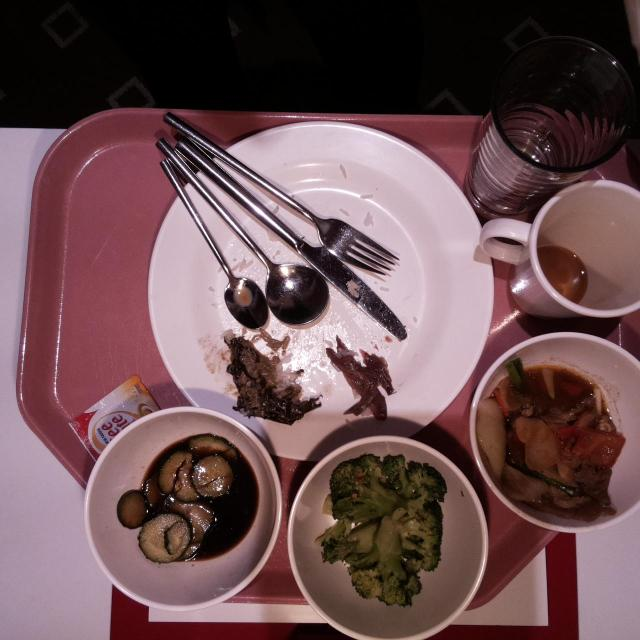Bone: (327, 336, 393, 408)
Vegetable: (328, 458, 448, 608), (137, 510, 191, 566)
